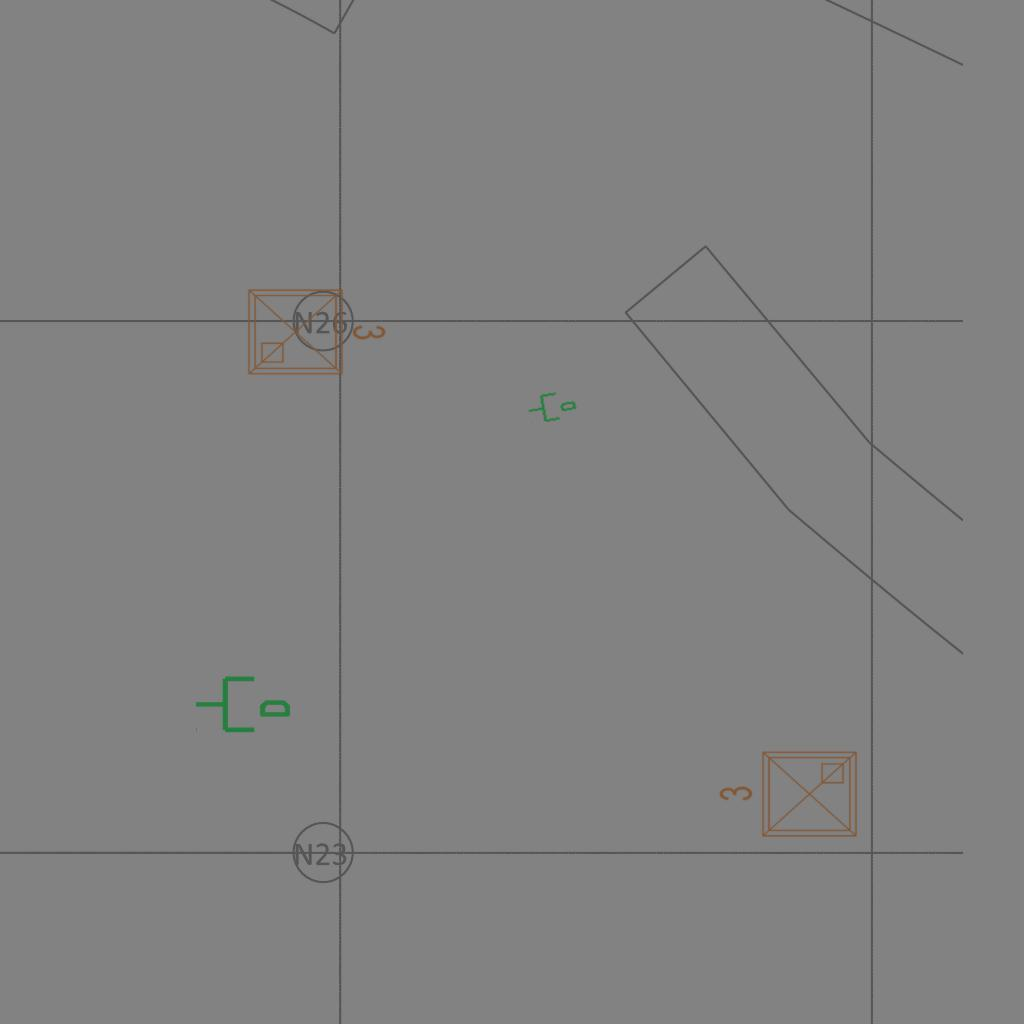Datenanschluss_einfach: (193, 668, 293, 737), (524, 384, 580, 428)
Einbaudownlights_LED_Konferenzraeume: (241, 278, 391, 382), (714, 744, 864, 848)
